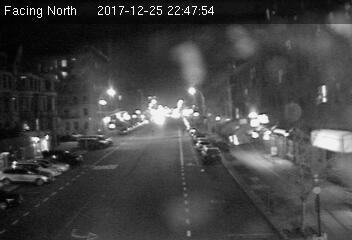car: (201, 145, 221, 162)
